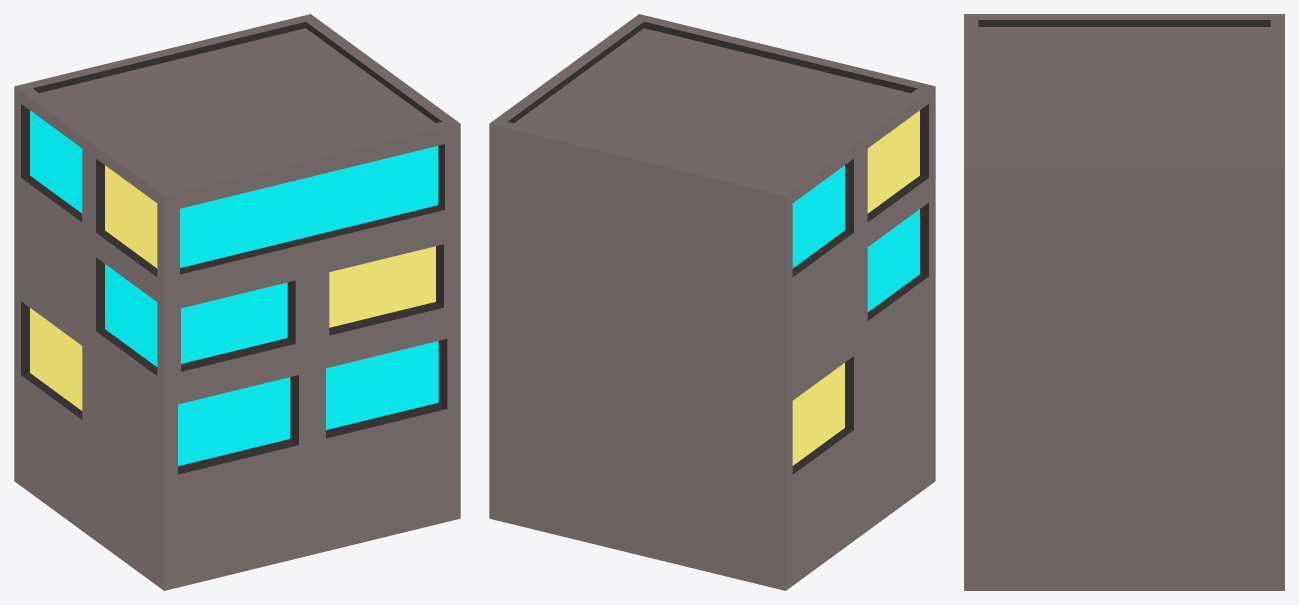
File: Edificio1.glb
3 renders of one model, left to right at view 1: azimuth 30°, elevation 25°; view 2: azimuth 150°, elevation 25°; view 3: azimuth 270°, elevation 25°, orthographic. The views are drawn at different scales.
Parts seen in each view (by area): view 1: Edificio1; view 2: Edificio1; view 3: Edificio1.
Boxes of the visible parts, box(x1,y1,x2,y2) form: Edificio1: box(14, 14, 460, 590); Edificio1: box(489, 14, 935, 590); Edificio1: box(964, 14, 1284, 590).
Bounding box in the file's own units: 32.24 × 41.01 × 28.25.
